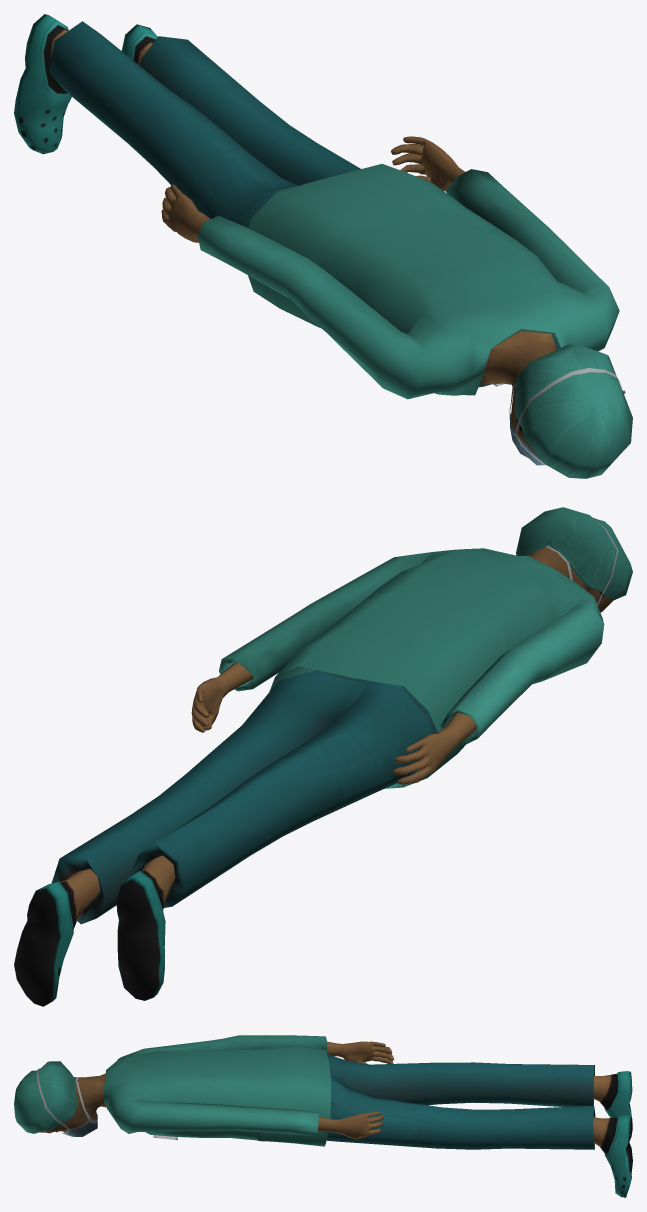
File: OpScrubs.obj
The picture shows the model from 3 angles, top to bottom: view 1: azimuth 30°, elevation 25°; view 2: azimuth 150°, elevation 25°; view 3: azimuth 270°, elevation 25°; orthographic projection. The views are drawn at different scales.
Parts seen in each view (by area): view 1: OpScrubs_OpScrubs_ScrubsFemaleT.006; view 2: OpScrubs_OpScrubs_ScrubsFemaleT.006; view 3: OpScrubs_OpScrubs_ScrubsFemaleT.006.
Boxes of the visible parts, box(x1,y1,x2,y2) form: OpScrubs_OpScrubs_ScrubsFemaleT.006: box(14, 14, 632, 478); OpScrubs_OpScrubs_ScrubsFemaleT.006: box(14, 507, 632, 1006); OpScrubs_OpScrubs_ScrubsFemaleT.006: box(14, 1035, 632, 1197).
Size of the model in its own units: 0.4965 by 0.3241 by 1.6.
Materials: 1 (1 with a texture image).
